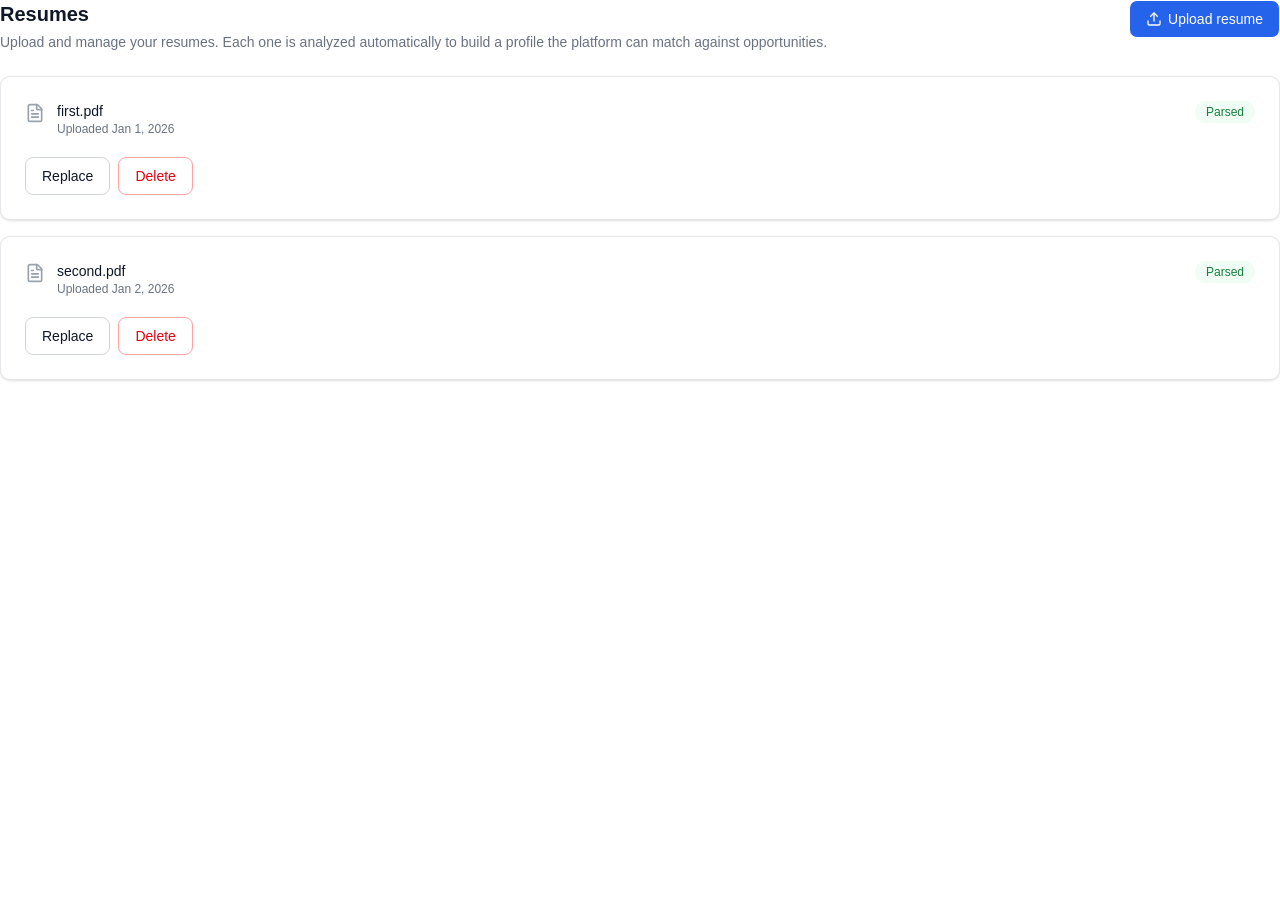
Test: ResumesPage › Step 12 regression: closing the delete-confirmation dialog (Cancel) returns focus to the exact Delete button that opened it, even with multiple rows
Expected: the text "second.pdf" is shown, [57,263,126,279]
Click the button "Delete" below "Jan 2, 2026" at (156, 336), box [118,317,193,355]
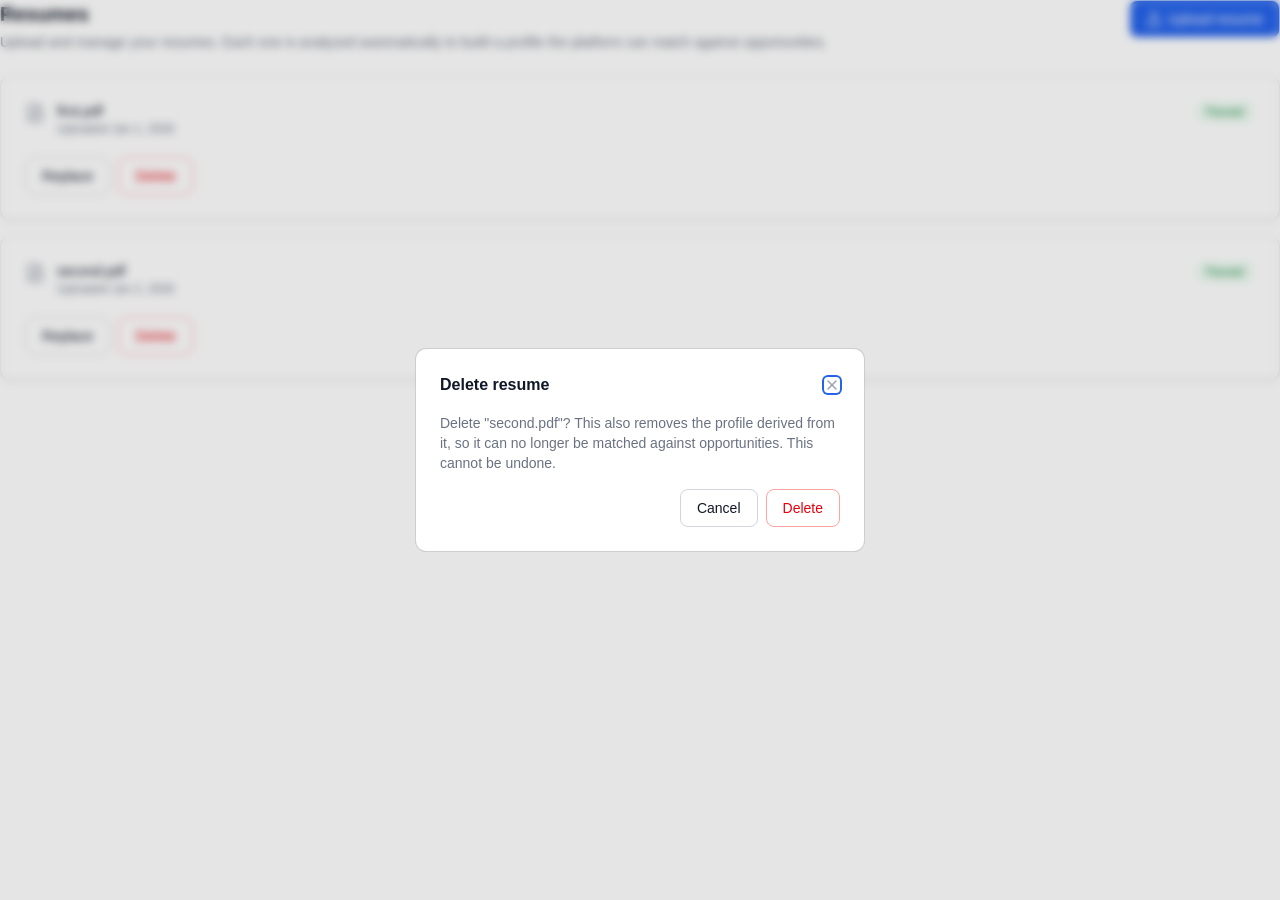
Now the dialog "Delete resume" is shown, box [416,349,864,551]
Click the button "Cancel" at (719, 508), box [680,489,758,527]
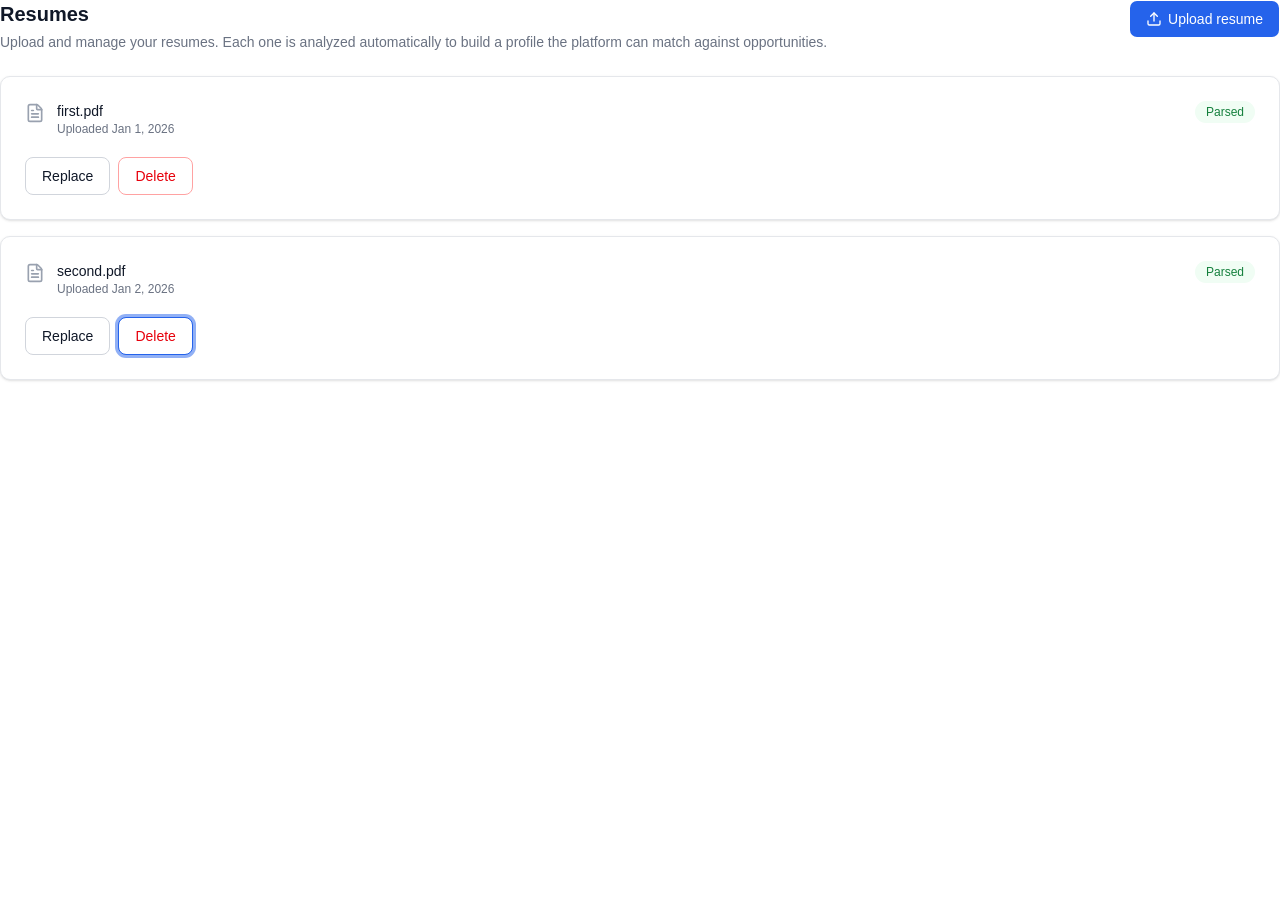
Now the dialog is gone
